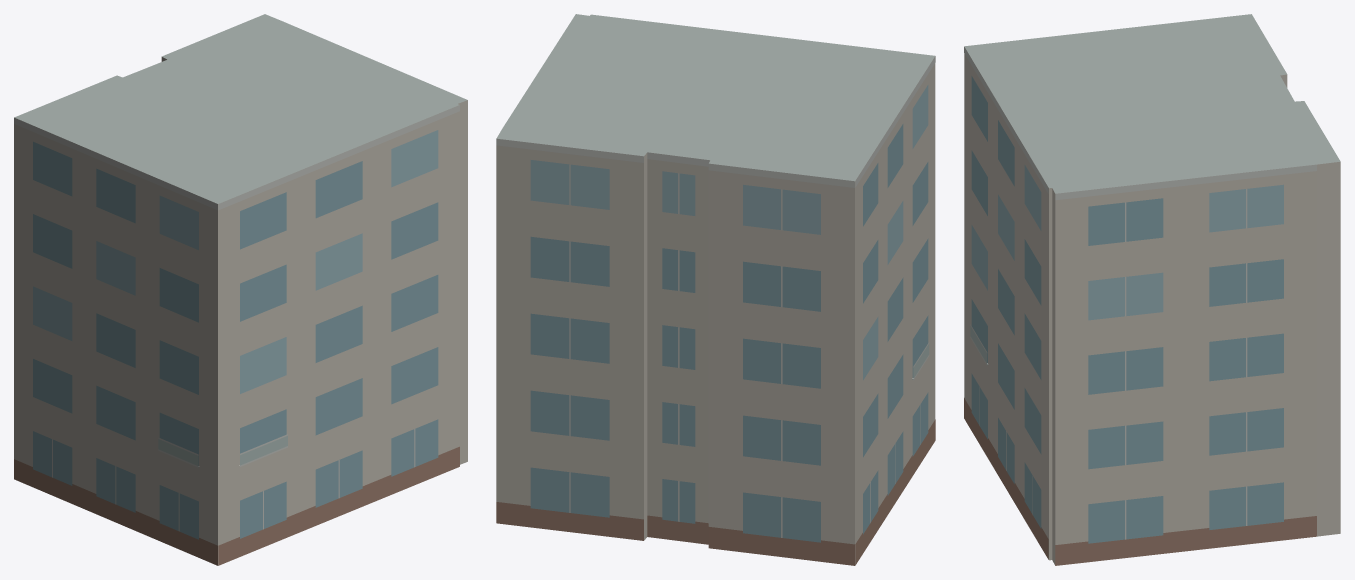
The model's file is survey-upis-32651791.glb.
3 renders of one model, left to right at view 1: azimuth 30°, elevation 25°; view 2: azimuth 150°, elevation 25°; view 3: azimuth 270°, elevation 25°, orthographic. The views are drawn at different scales.
Parts seen in each view (by area): view 1: survey-upis-32651791.tmp; view 2: survey-upis-32651791.tmp; view 3: survey-upis-32651791.tmp.
Part boxes in pixels (x1=…): survey-upis-32651791.tmp: x1=14, y1=14, x2=467, y2=565; survey-upis-32651791.tmp: x1=496, y1=14, x2=935, y2=565; survey-upis-32651791.tmp: x1=964, y1=14, x2=1340, y2=565.
Size of the model in its own units: 14.47 by 13.95 by 12.81.
